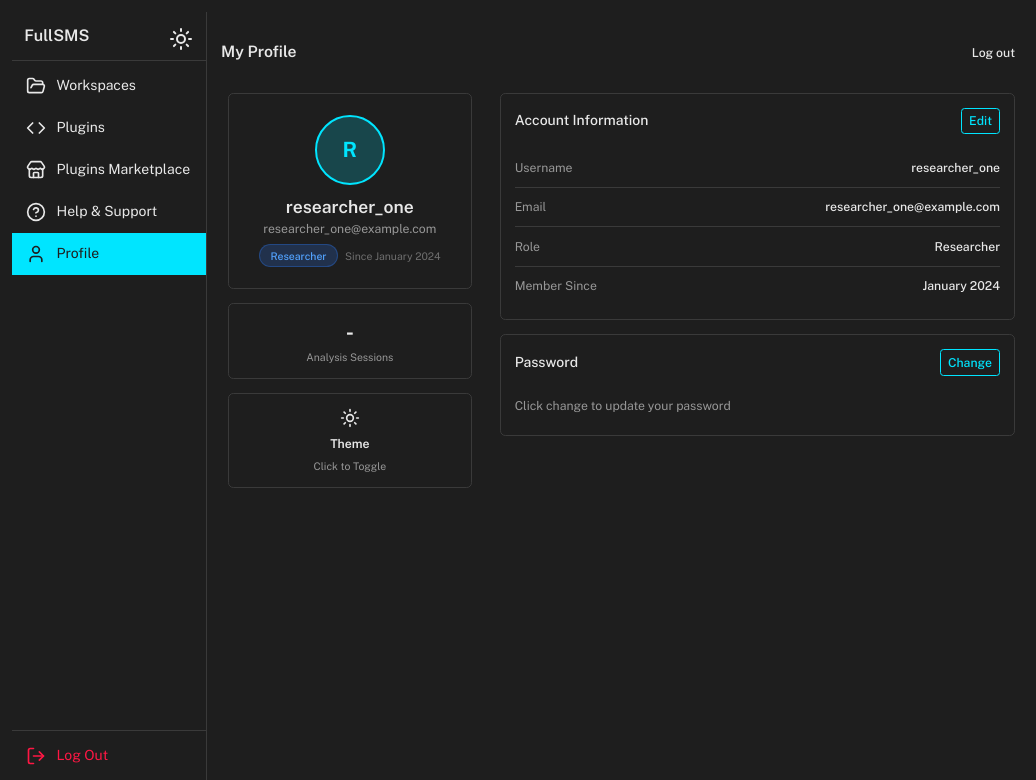
Test: ProfilePage › clicking Change shows the password form
expect the heading "My Profile" is shown: met, box [221,40,297,64]
Click the button "Change" at (970,362), box [940,349,1000,376]
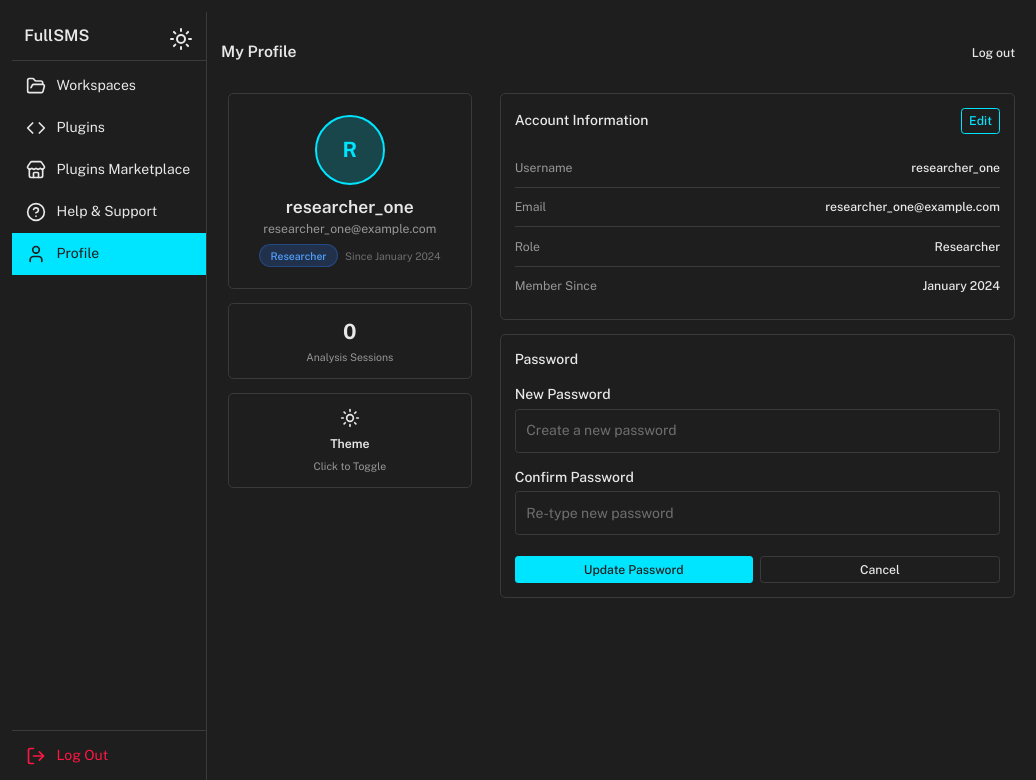
expect the password field labelled "New Password" is shown: met, box [515,408,1000,452]
expect the password field labelled "Confirm Password" is shown: met, box [515,491,1000,535]
